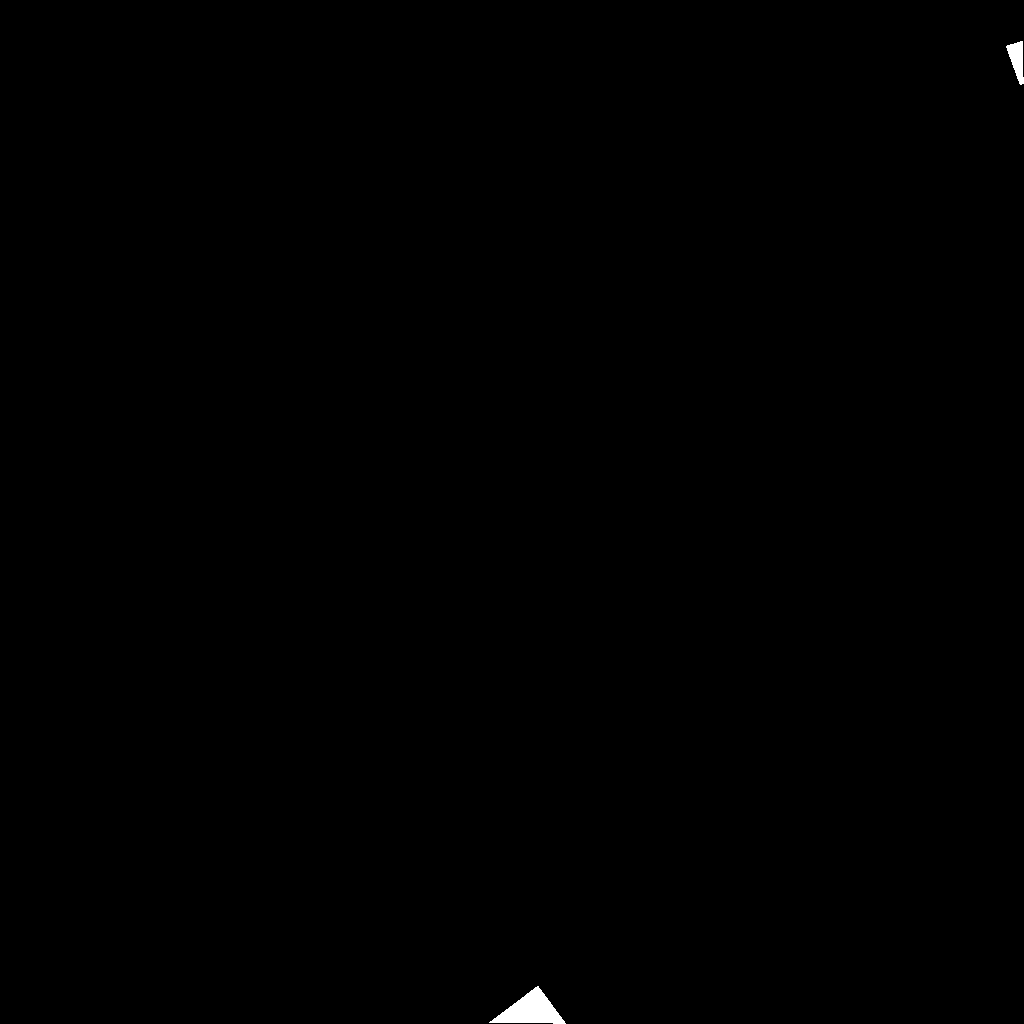building: (489, 986, 567, 1024), (1006, 41, 1024, 86)
